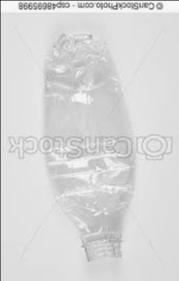Plastic: (42, 27, 128, 265)
